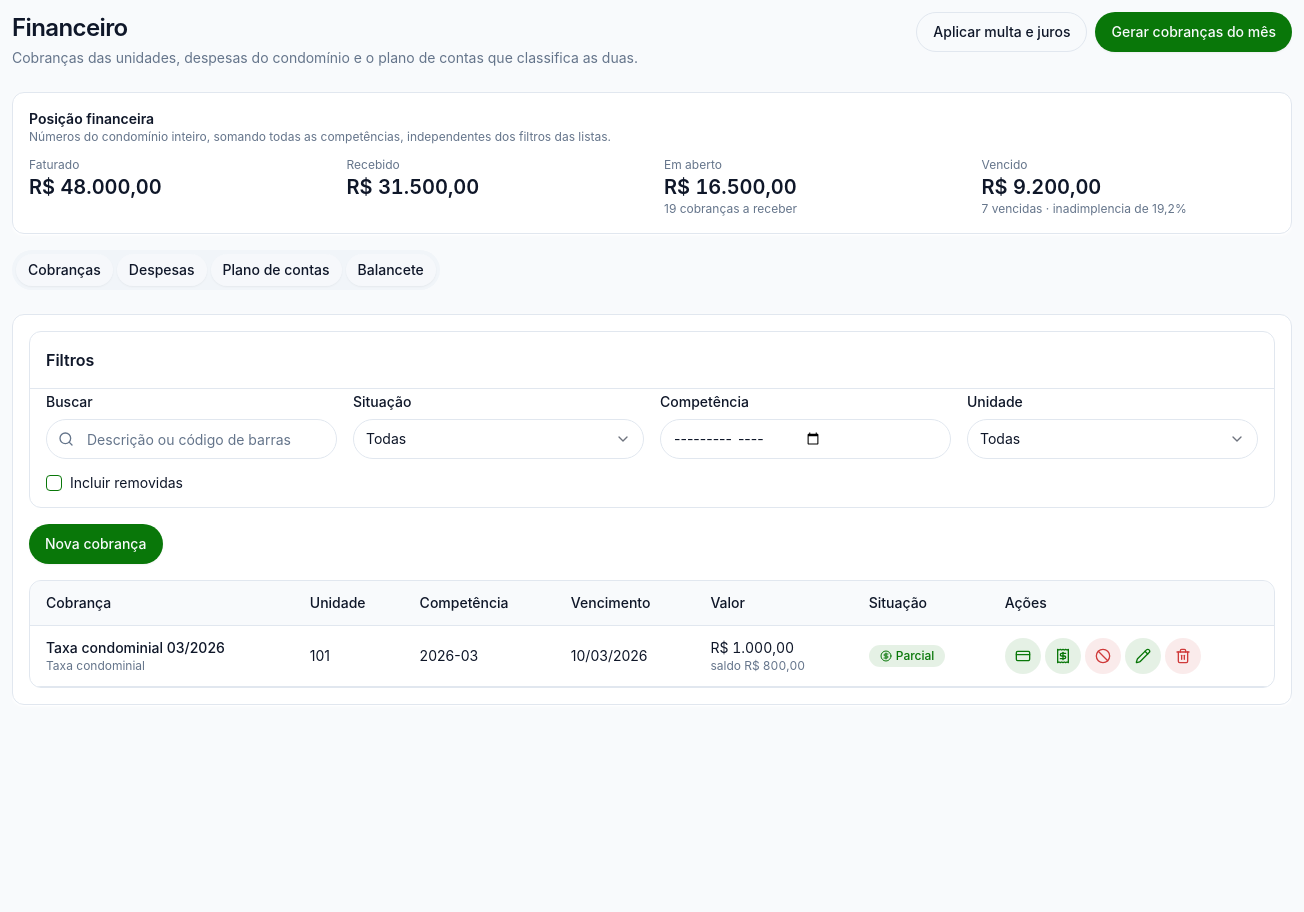
Test: Despesas › a seção troca sem sair da rota
Expected: the text "Taxa condominial 03/2026" is shown, [46, 638, 225, 658]
Press the mouse on the tab "Despesas" at coordinates (162, 270), box [117, 254, 207, 286]
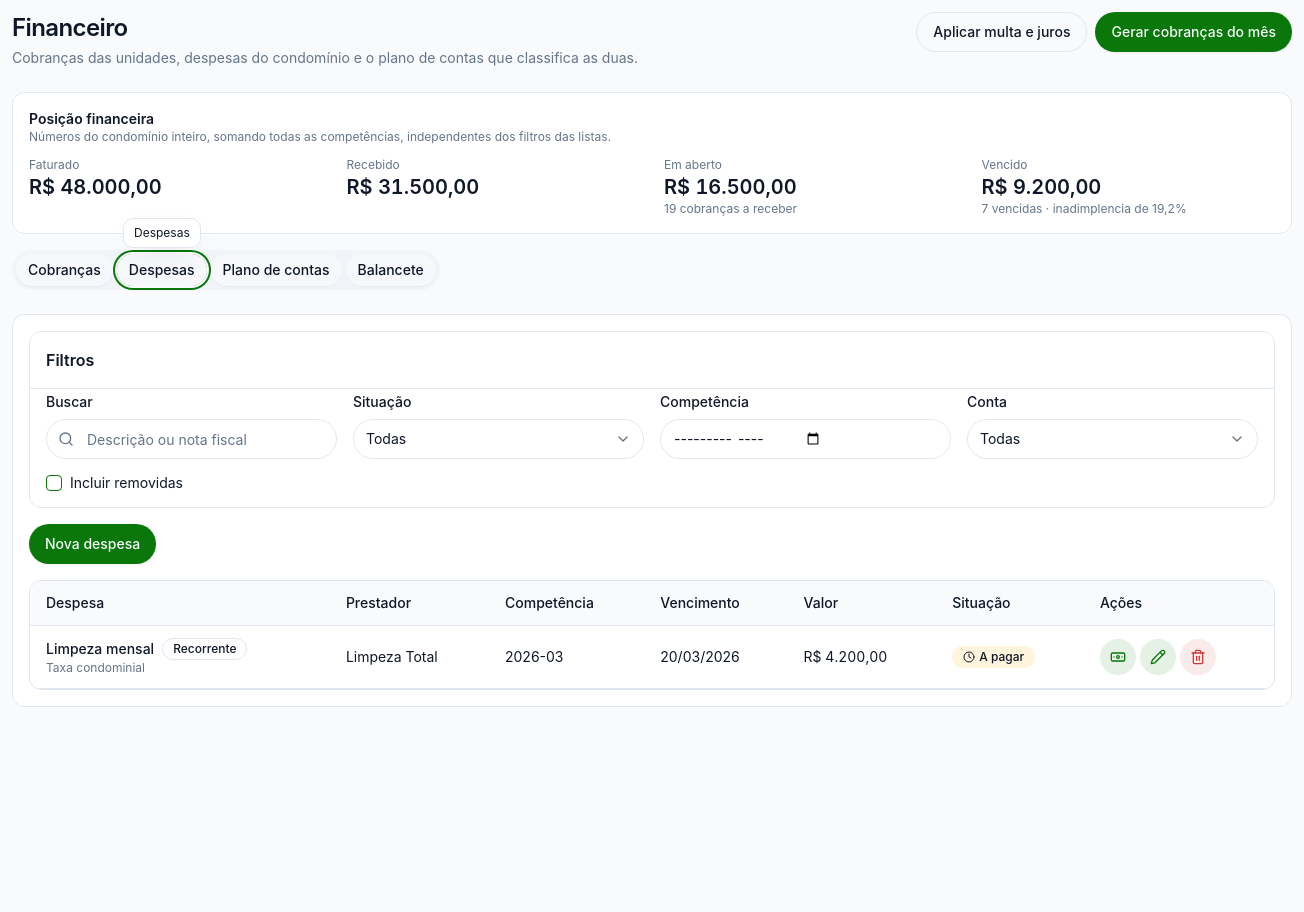
Now the text "Limpeza mensal" is shown, box [46, 639, 154, 659]
Now the text "Taxa condominial 03/2026" is gone
